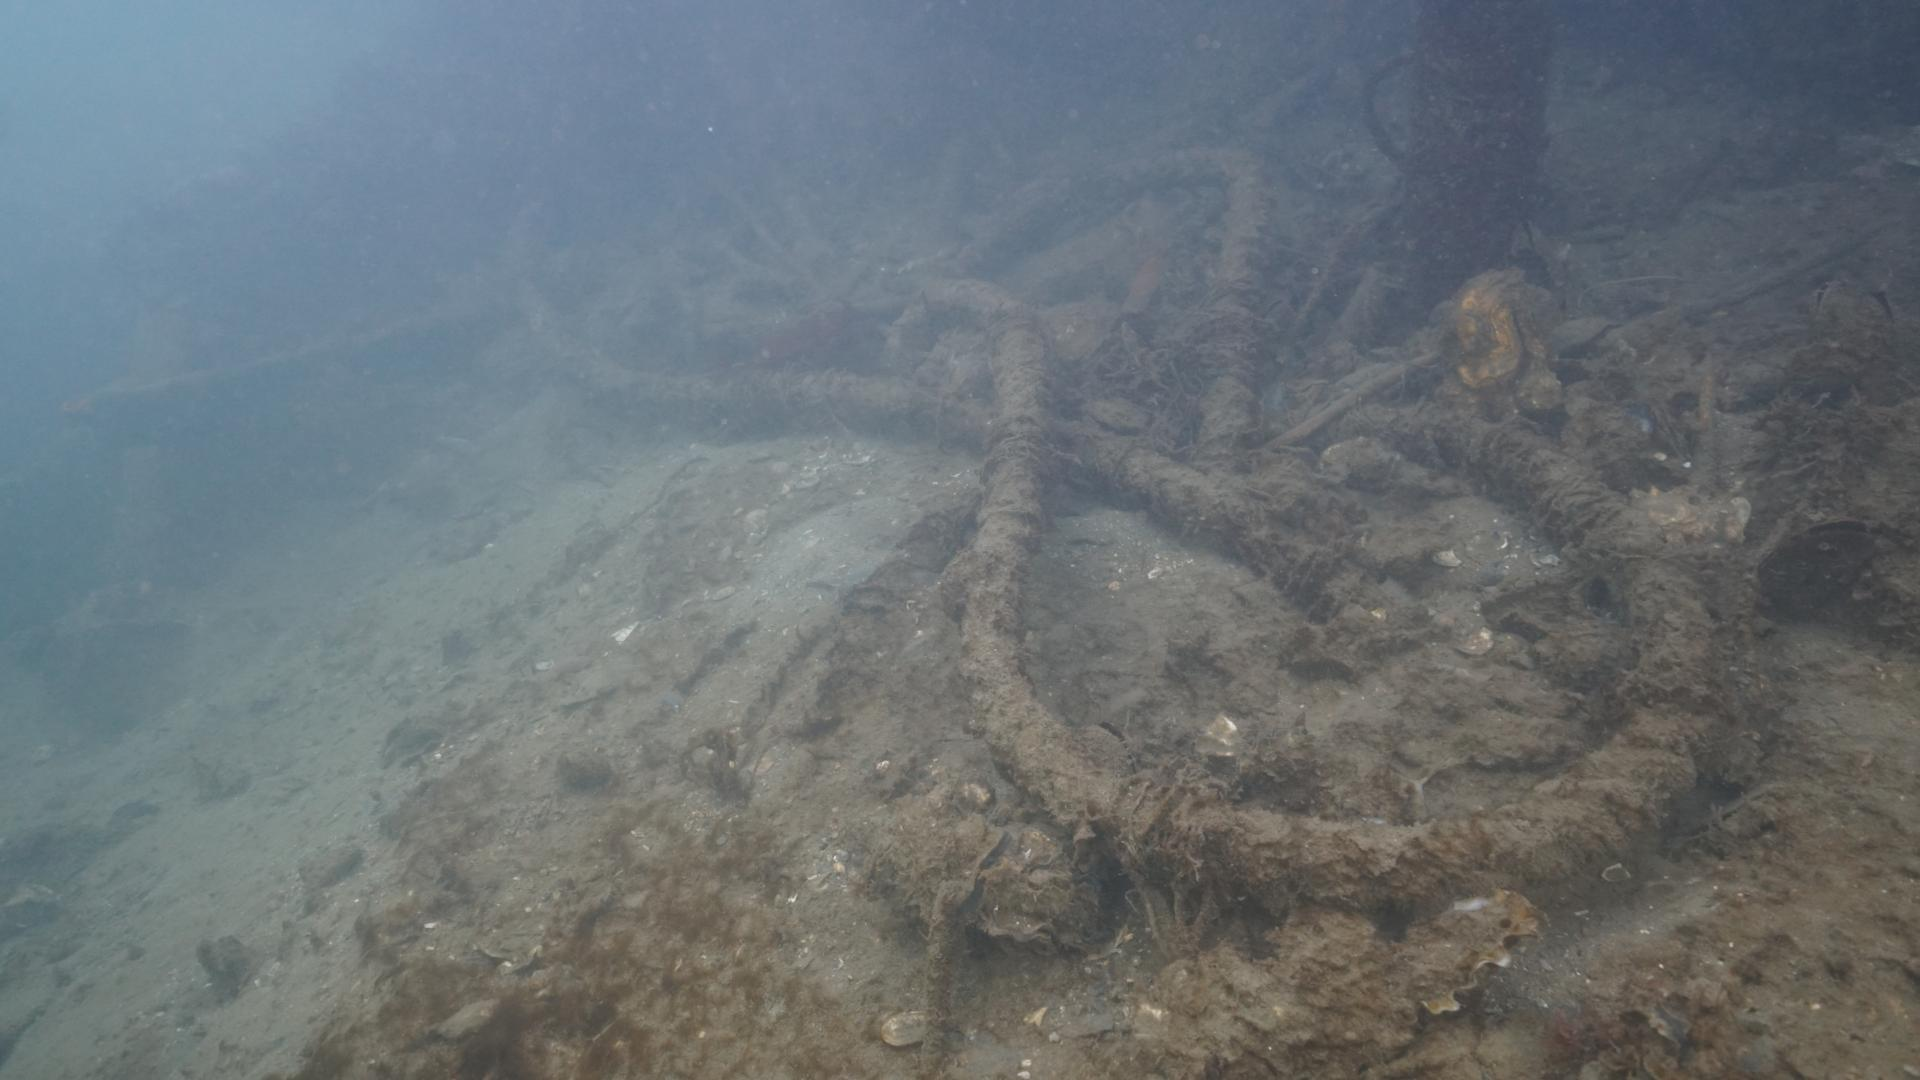bundle of ropes: (498, 109, 1727, 909)
